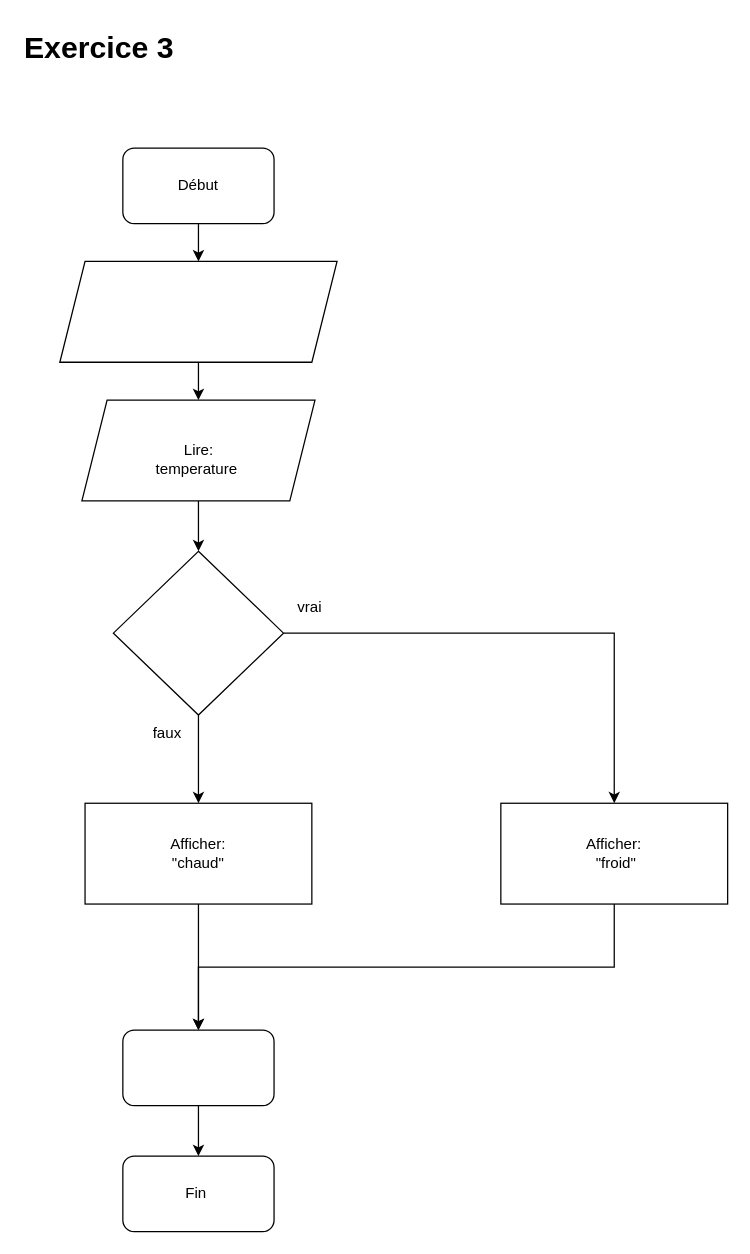
This 750x1254 diagram has some shape labels left out. Each missing label, with the centre of its shape:
Afficher: "Saisir la température en Celsius: ": point 198,311
Fin si: point 198,1067
Si temperature < 10: point 198,632
